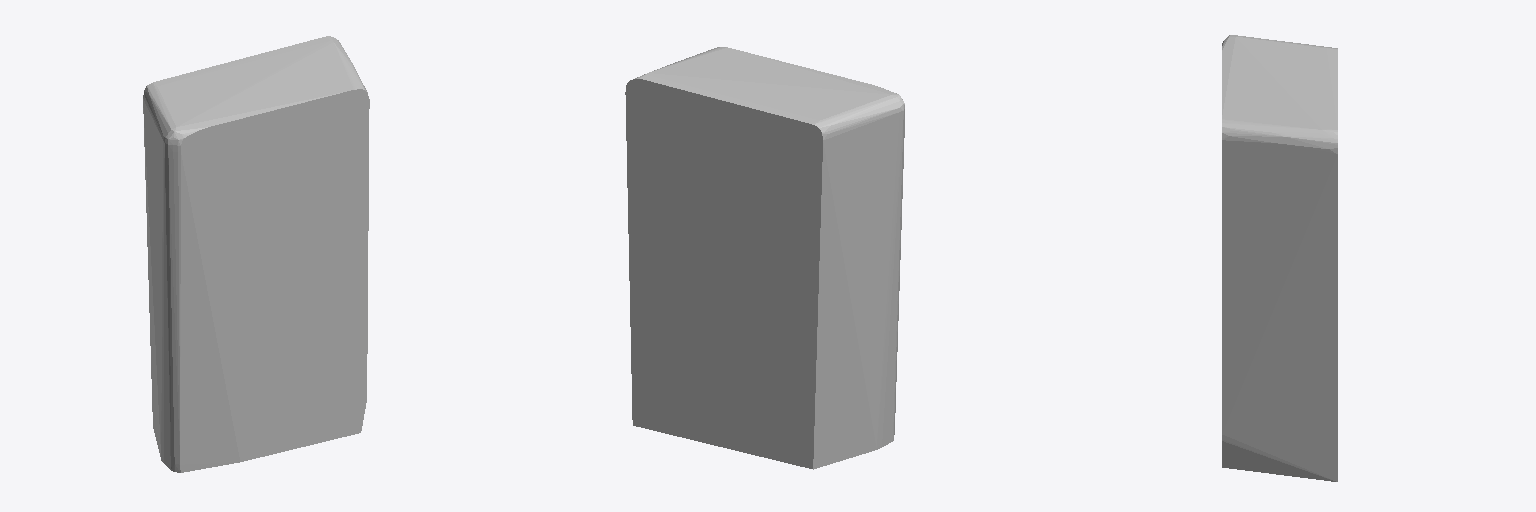
File: box_long_brown_M_collision_0.obj
3 renders of one model, left to right at view 1: azimuth 30°, elevation 25°; view 2: azimuth 150°, elevation 25°; view 3: azimuth 270°, elevation 25°, orthographic.
Size of the model in its own units: 0.045 by 0.066 by 0.0198.